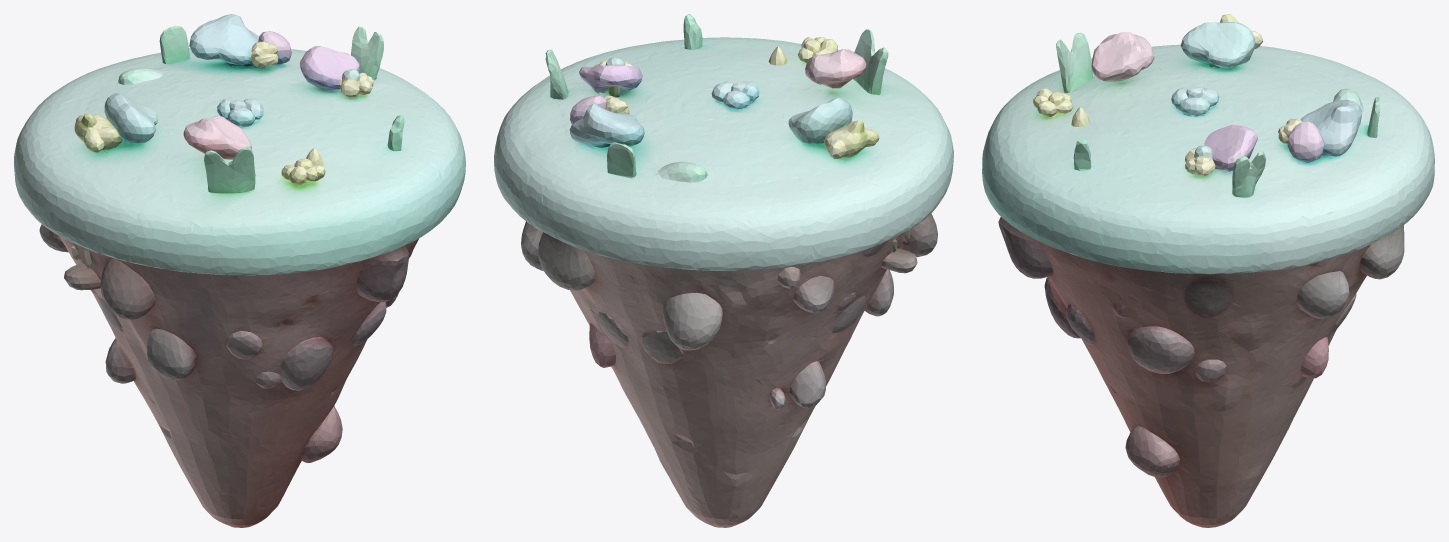
The model's file is prop_island.glb.
The picture shows the model from 3 angles, left to right: view 1: azimuth 30°, elevation 25°; view 2: azimuth 150°, elevation 25°; view 3: azimuth 270°, elevation 25°; orthographic projection.
Visible parts, largest first — view 1: world; view 2: world; view 3: world.
Boxes of the visible parts, x1,y1,x2,y2 form: world: (14,14,465,527); world: (494,14,953,527); world: (982,14,1434,527).
Size of the model in its own units: 0.8748 by 0.9725 by 0.8743.
Materials: 1 (1 with a texture image).
